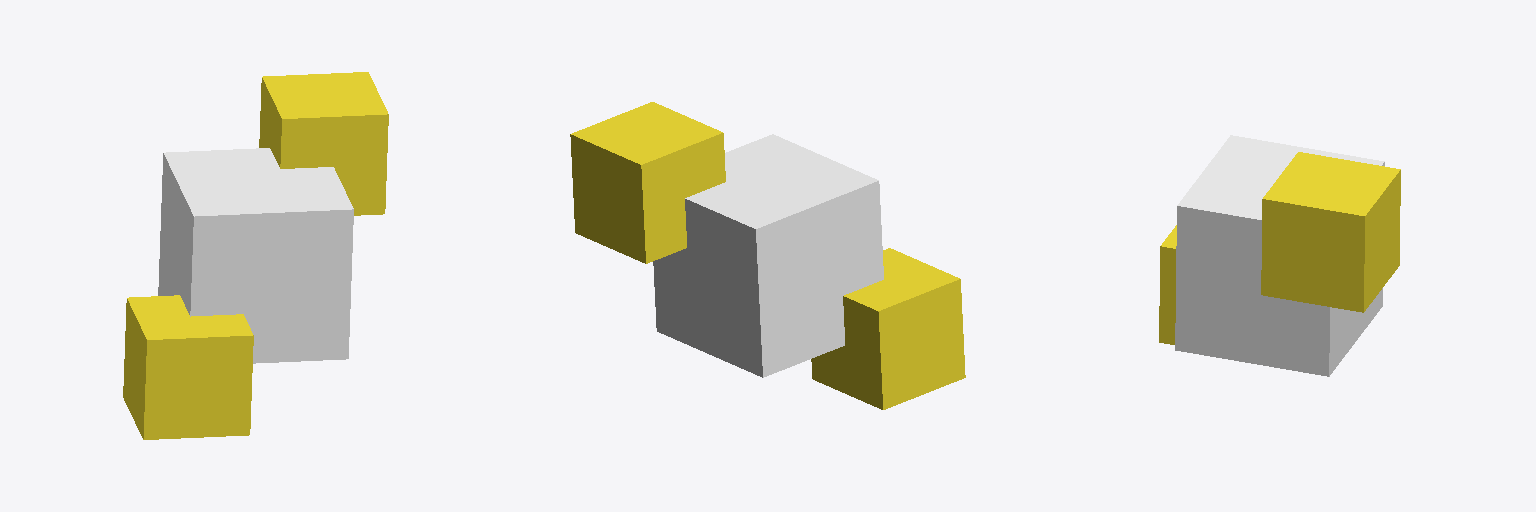
Rendered from DigitoHand.obj.
The picture shows the model from 3 angles: view 1: azimuth 30°, elevation 25°; view 2: azimuth 150°, elevation 25°; view 3: azimuth 270°, elevation 25°; orthographic projection.
Parts seen in each view (by area): view 1: group[number redacted], group[number redacted], group[number redacted]; view 2: group[number redacted], group[number redacted], group[number redacted]; view 3: group[number redacted], group[number redacted], group[number redacted].
Part boxes in pixels (x1,y1,x2,y2): group[number redacted]: (158,148,353,363); group[number redacted]: (123,295,253,439); group[number redacted]: (259,72,388,215); group[number redacted]: (653,134,883,377); group[number redacted]: (570,102,725,263); group[number redacted]: (811,248,965,409); group[number redacted]: (1175,135,1384,376); group[number redacted]: (1261,152,1400,312); group[number redacted]: (1159,225,1176,344).
Size of the model in its own units: 0.3535 by 0.2647 by 0.2388.